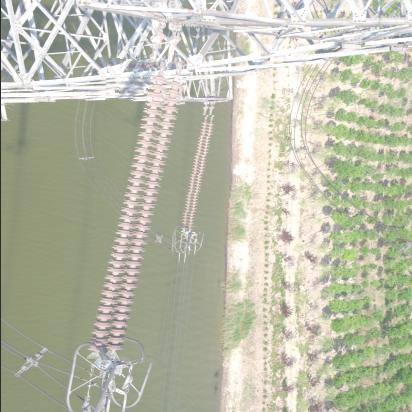insulator: (92, 60, 182, 364), (183, 116, 217, 234)
